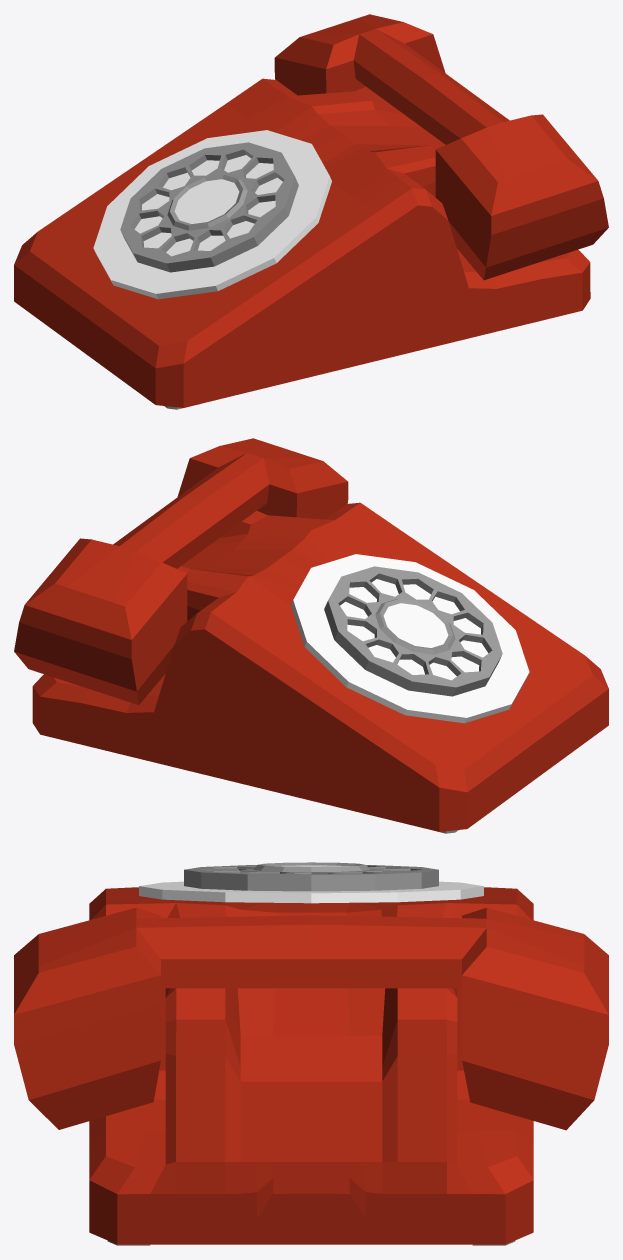
Rendered from 70s.Phone.fbx.
The picture shows the model from 3 angles, top to bottom: view 1: azimuth 30°, elevation 25°; view 2: azimuth 150°, elevation 25°; view 3: azimuth 270°, elevation 25°; orthographic projection. The views are drawn at different scales.
Parts seen in each view (by area): view 1: 70s.Phone; view 2: 70s.Phone; view 3: 70s.Phone.
Boxes of the visible parts, left/top/right/bottom form: 70s.Phone: left=14, top=14, right=608, bottom=409; 70s.Phone: left=14, top=438, right=608, bottom=833; 70s.Phone: left=14, top=862, right=608, bottom=1245.
Size of the model in its own units: 20.97 by 9.21 by 18.07.
